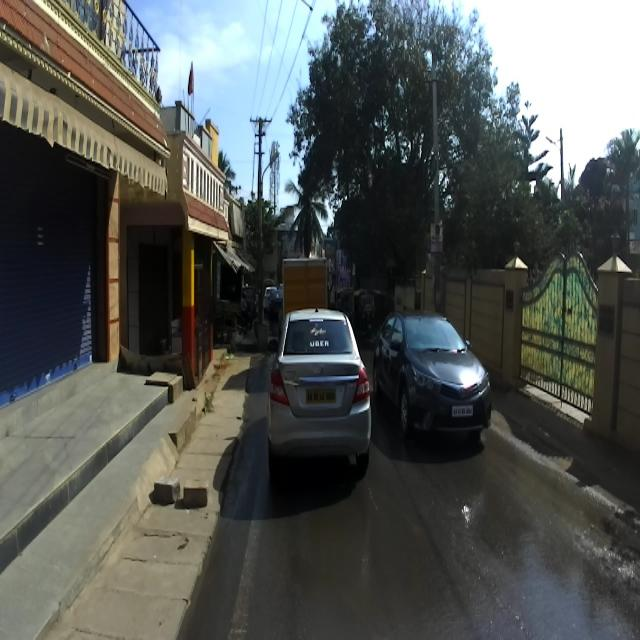Car_Maruti-Suzuki: (266, 298, 372, 480)
Car_Toyota: (372, 308, 492, 440)
